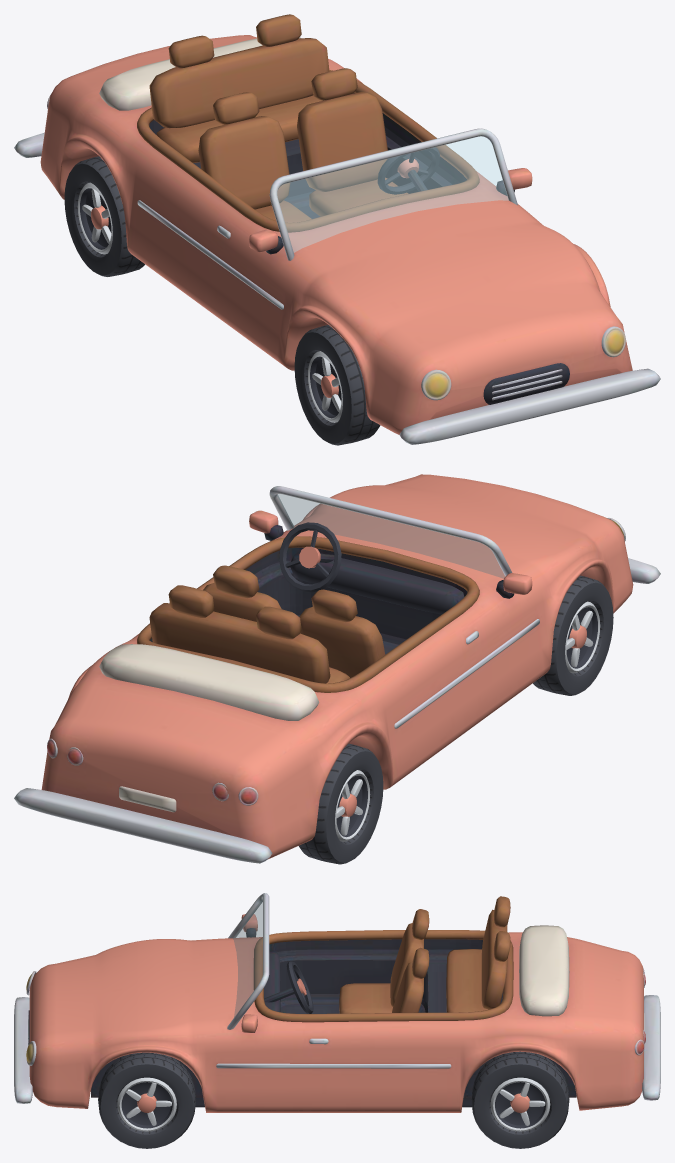
Rendered from convertible.glb.
3 renders of one model, top to bottom at view 1: azimuth 30°, elevation 25°; view 2: azimuth 150°, elevation 25°; view 3: azimuth 270°, elevation 25°, orthographic. The views are drawn at different scales.
Parts seen in each view (by area): view 1: convertible_body, convertible_windows, convertible_wheel_fr, convertible_wheel_rr, convertible_steering_wheel; view 2: convertible_body, convertible_wheel_rr, convertible_wheel_fr, convertible_windows, convertible_steering_wheel; view 3: convertible_body, convertible_wheel_rl, convertible_wheel_fl, convertible_windows, convertible_steering_wheel.
Part boxes in pixels (x1,y1,x2,y2): convertible_body: (14,14,660,444); convertible_windows: (277,136,508,252); convertible_wheel_fr: (294,325,380,445); convertible_wheel_rr: (64,156,144,276); convertible_steering_wheel: (377,143,439,194); convertible_body: (14,474,660,863); convertible_wheel_rr: (299,743,383,864); convertible_wheel_fr: (533,575,613,695); convertible_windows: (277,494,504,578); convertible_steering_wheel: (279,522,341,592); convertible_body: (14,893,660,1112); convertible_wheel_rl: (471,1051,569,1148); convertible_wheel_fl: (98,1052,196,1148); convertible_windows: (233,899,262,1016); convertible_steering_wheel: (286,961,313,1013).
Bounding box in the file's own units: 1.76 × 1.33 × 4.35.
20 materials, 5 textured.
